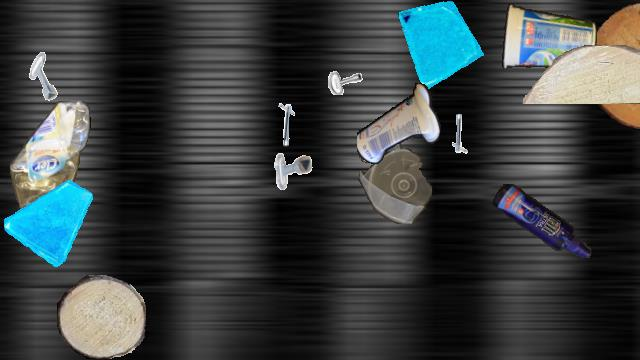glass: (397, 1, 489, 93), (4, 177, 94, 267)
metal: (265, 101, 319, 155), (316, 43, 368, 95), (21, 51, 71, 101), (429, 106, 479, 156), (272, 148, 314, 190)
plastic: (10, 101, 92, 247), (493, 184, 591, 258), (357, 81, 441, 167), (500, 1, 596, 71), (358, 135, 432, 223)
wood: (57, 275, 145, 359), (522, 45, 640, 103), (587, 1, 640, 129)
